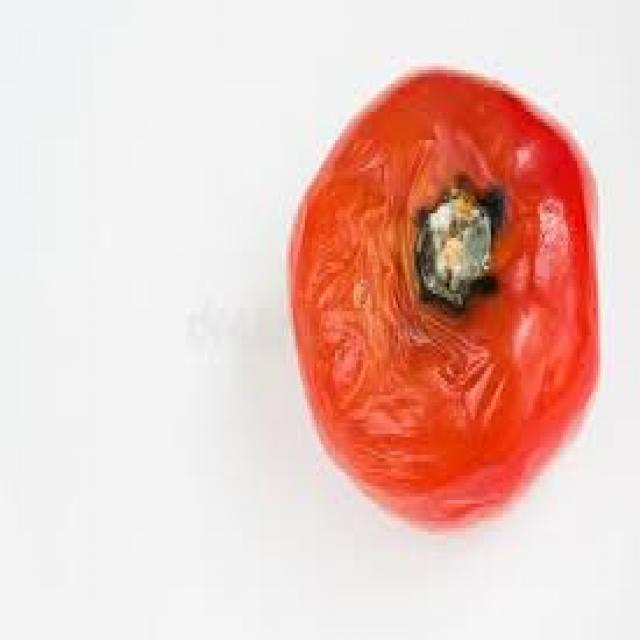organic waste: (286, 63, 598, 521)
